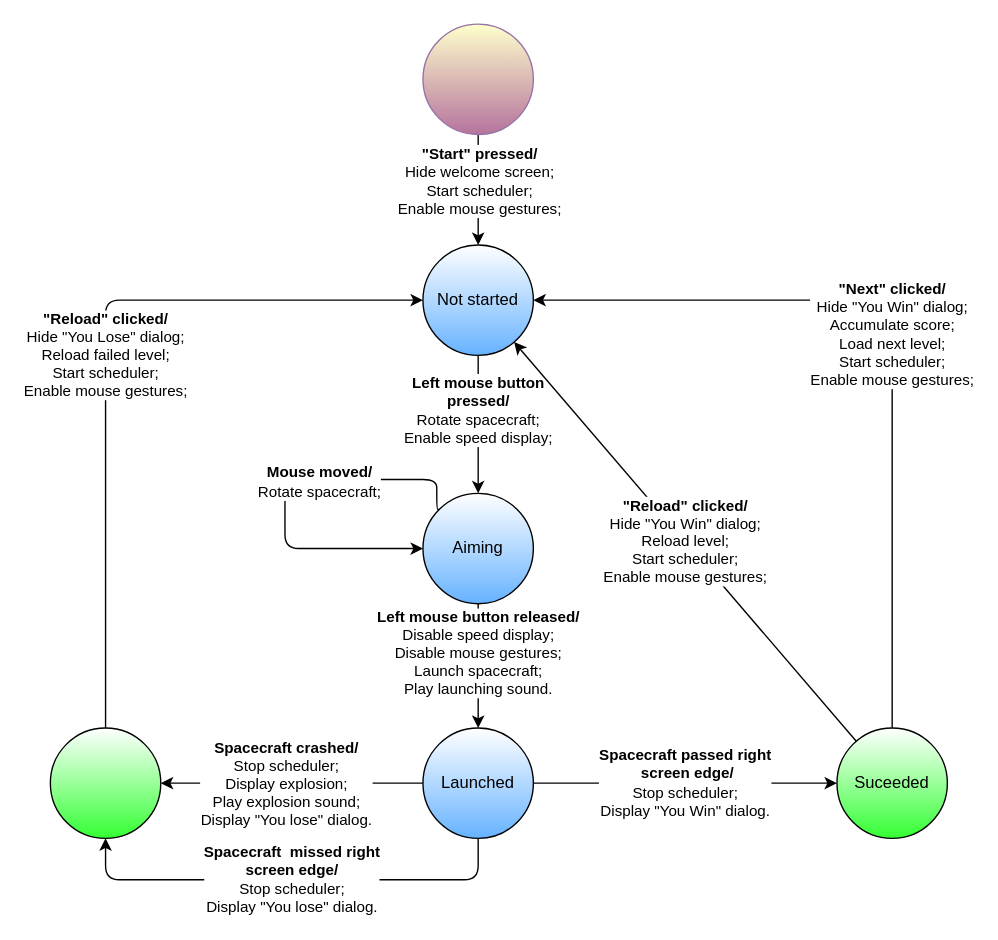
Some shapes in this 998 by 940 pixel diagram are drawn without their labels. Each missing label, with the centre of its shape:
"Failed" goes at point (105, 782).
"Welcome screen displayed (initial)" goes at point (477, 79).
